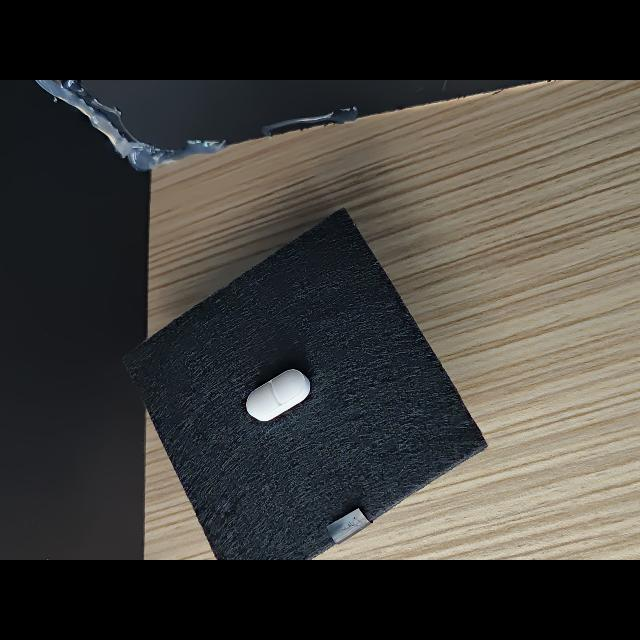Intact Pill: (246, 369, 310, 421)
